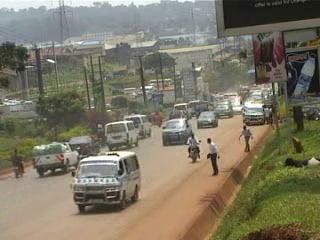Car: (66, 134, 100, 157), (195, 109, 220, 129), (212, 99, 232, 119), (165, 108, 188, 122), (228, 99, 244, 115)
Motorcycle: (8, 146, 28, 178), (184, 130, 202, 162), (153, 104, 166, 127)
